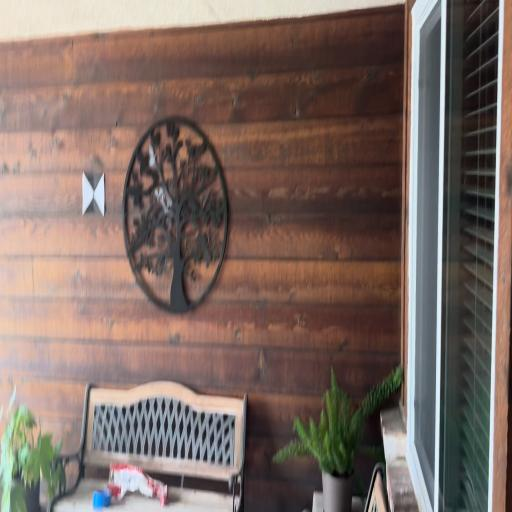target: (82, 174, 105, 214)
